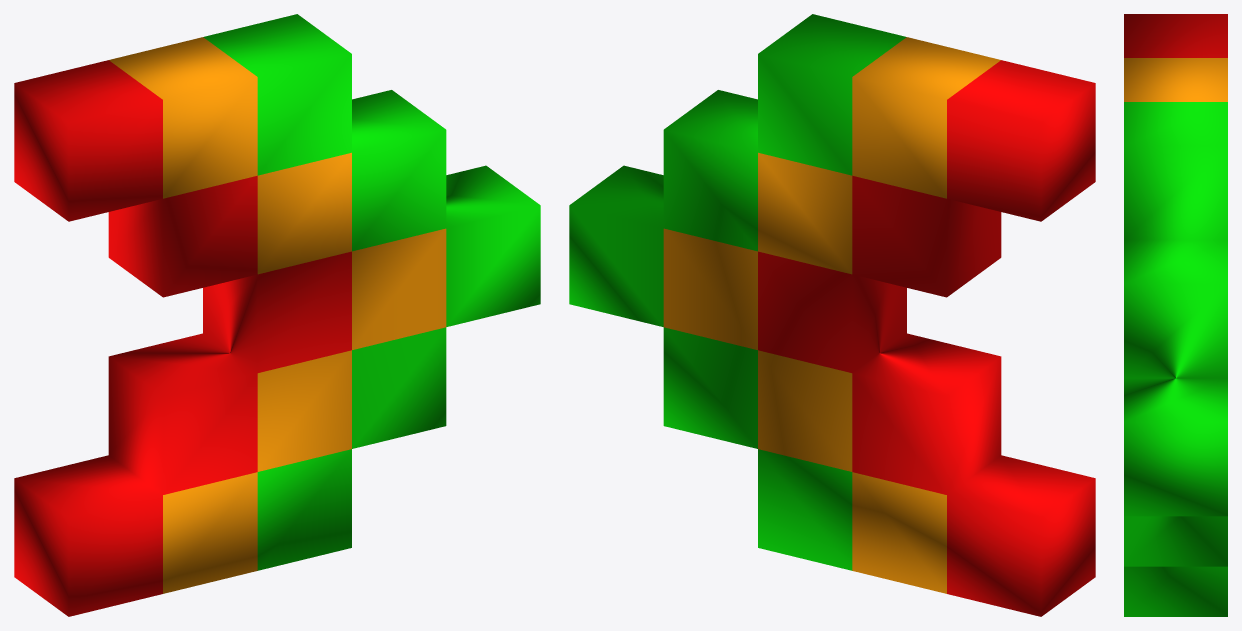
The model's file is equipome.fbx.
3 renders of one model, left to right at view 1: azimuth 30°, elevation 25°; view 2: azimuth 150°, elevation 25°; view 3: azimuth 270°, elevation 25°, orthographic. The views are drawn at different scales.
Visible parts, largest first — view 1: Cube_005; view 2: Cube_005; view 3: Cube_005.
Boxes of the visible parts, bbox=[...] form: Cube_005: bbox=[14, 14, 540, 616]; Cube_005: bbox=[569, 14, 1095, 616]; Cube_005: bbox=[1124, 14, 1227, 616].
Size of the model in its own units: 1.08 by 1.08 by 0.2159.
